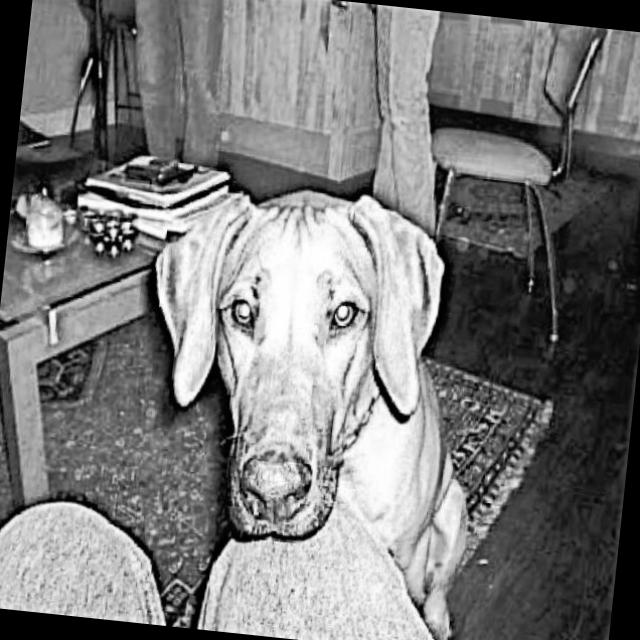Dog: (116, 165, 511, 640)
